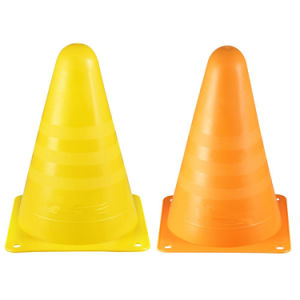yellowC: (2, 42, 153, 262)
